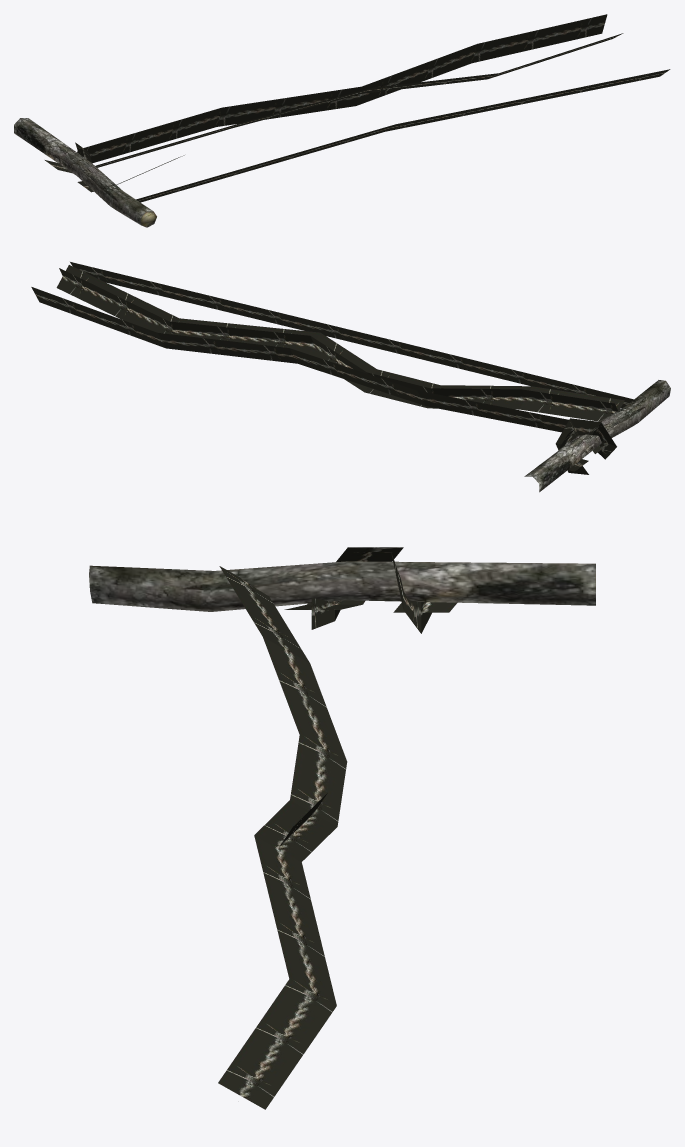
The model's file is caen_barbedwire_6.glb.
The picture shows the model from 3 angles, top to bottom: view 1: azimuth 30°, elevation 25°; view 2: azimuth 150°, elevation 25°; view 3: azimuth 270°, elevation 25°; orthographic projection. The views are drawn at different scales.
Size of the model in its own units: 109 by 8.3 by 42.53.
1 material, 1 textured.
